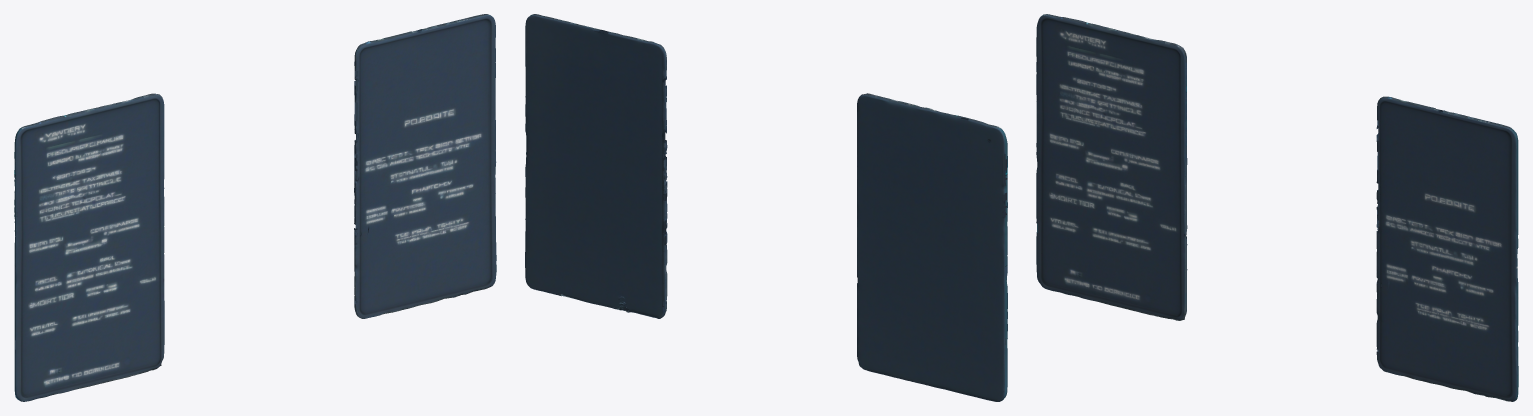
File: inbox.glb
3 renders of one model, left to right at view 1: azimuth 30°, elevation 25°; view 2: azimuth 150°, elevation 25°; view 3: azimuth 330°, elevation 25°, orthographic.
Size of the model in its own units: 2.01 by 1.1 by 0.0185.
1 material, 1 textured.
